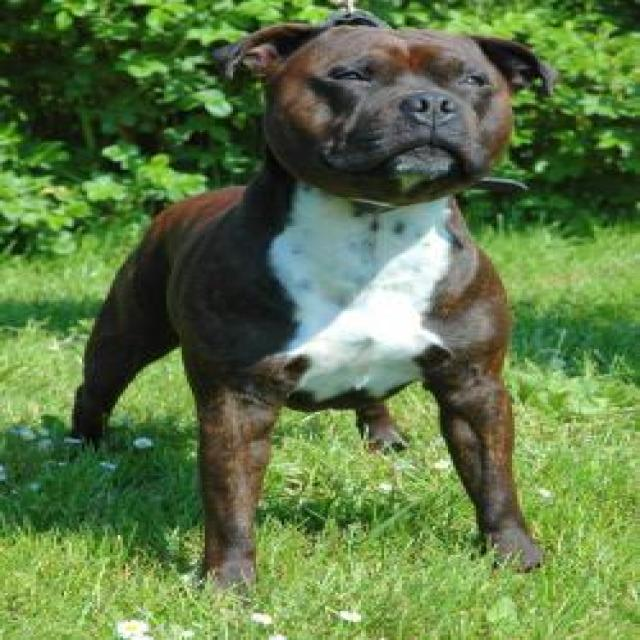staffordshire_bullterrier: (61, 11, 548, 602)
